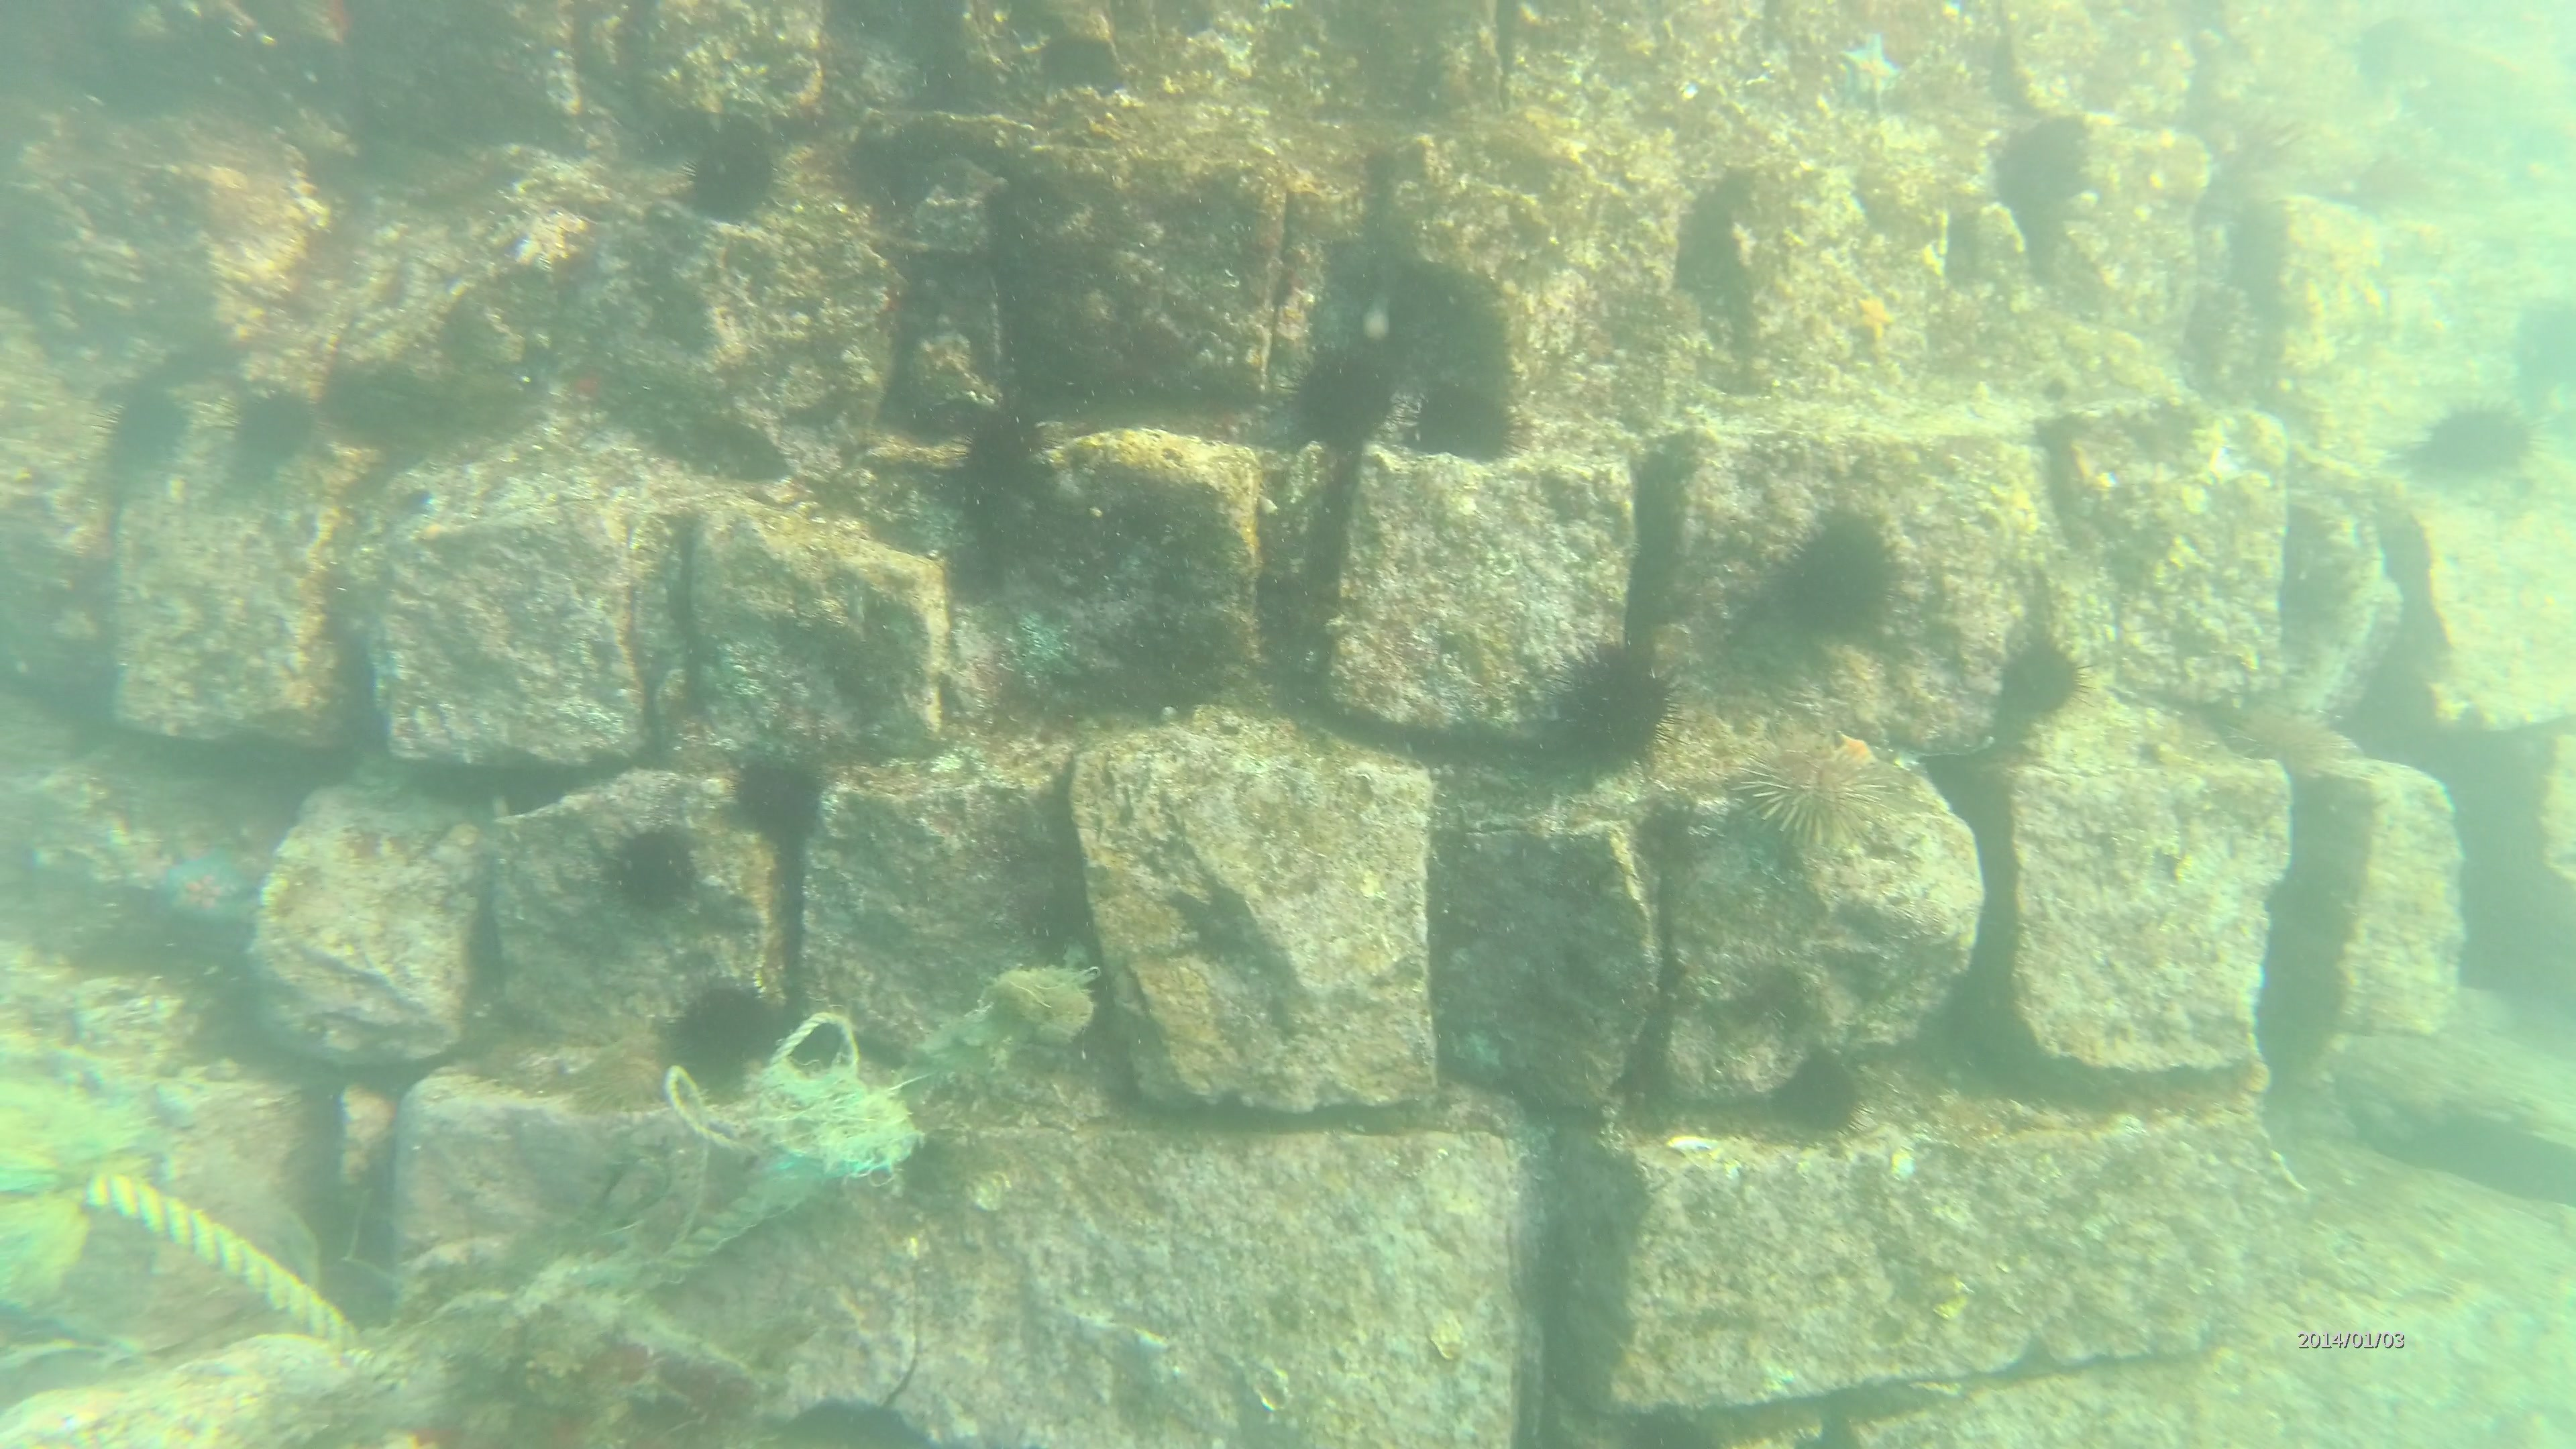echinus: (1723, 736, 1914, 847), (1557, 640, 1683, 777), (1783, 502, 1904, 642), (658, 978, 791, 1081), (955, 393, 1062, 511), (2410, 393, 2541, 487), (1415, 366, 1529, 465), (1297, 350, 1391, 462), (1999, 630, 2102, 727), (92, 387, 186, 488), (226, 382, 317, 483), (2010, 111, 2093, 219), (686, 133, 777, 228), (734, 754, 830, 842), (610, 824, 697, 922), (1776, 1049, 1863, 1136)
starfish: (156, 828, 262, 947), (1835, 32, 1909, 115)
